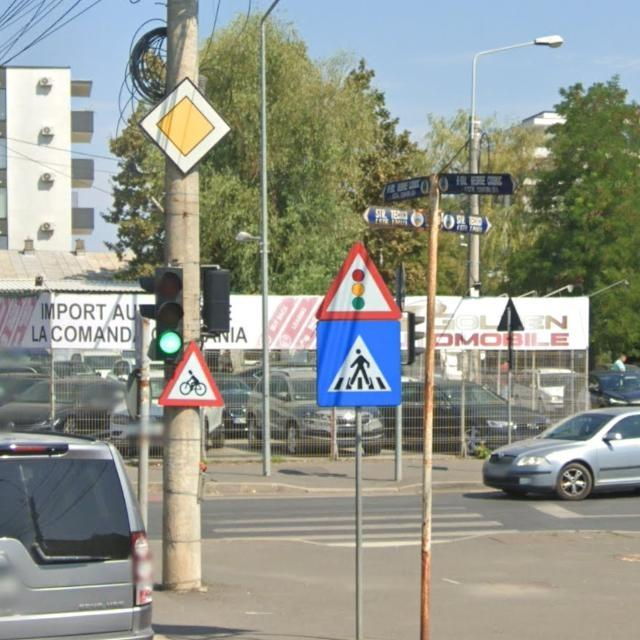info_crosswalk: (315, 319, 402, 406)
